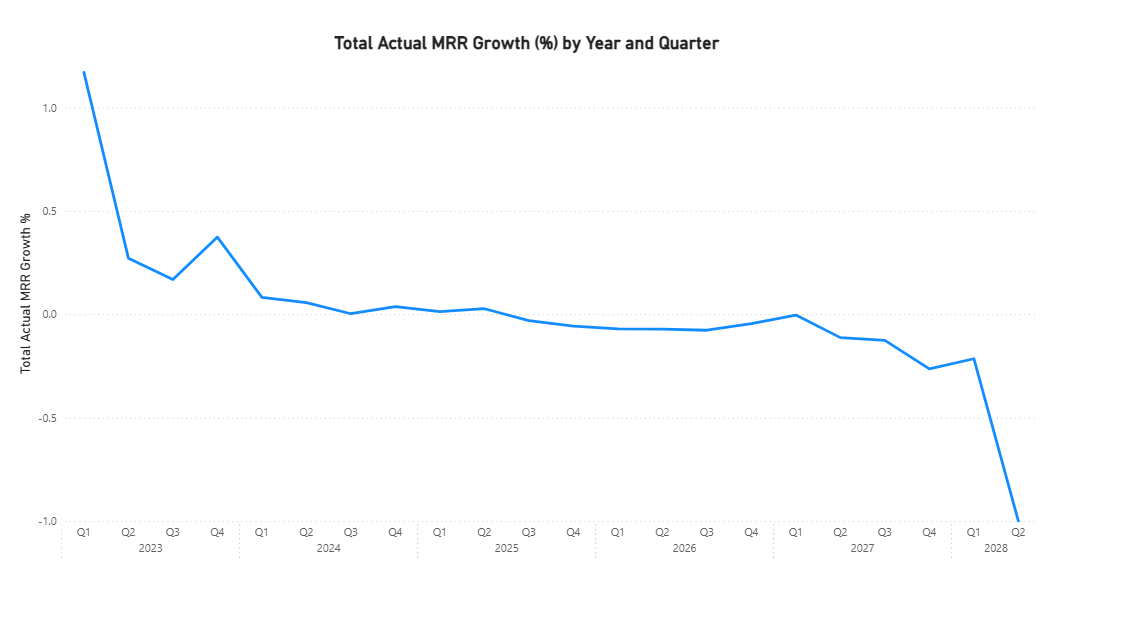

What the dashboard file says about the page in this screenshot:
{"tool":"powerbi","page":{"name":"Total Actual MRR Growth %","canvas":[1280,720],"ordinal":2},"visuals":[{"type":"lineChart","title":"Total Actual MRR Growth (%) by Year and Quarter","fields":{"Y":["SubscriptionRevenue.Total Actual MRR Growth %"],"Category":["Date New.Year Hierarchy.Year","Date New.Year Hierarchy.Quarter Name","Date New.Year Hierarchy.Month Name","Date New.Year Hierarchy.Day"]},"box":[19.4,43.7,1109.2,578.1],"z":0}]}

Visuals, with their boxes in screenshot pixels (x1, y1, x2, y2), scaled from the page's 1280x720 canvas onto the 1139x625 screenshot:
"Total Actual MRR Growth (%) by Year and Quarter" lineChart: {"left": 17, "top": 38, "right": 1004, "bottom": 540}
